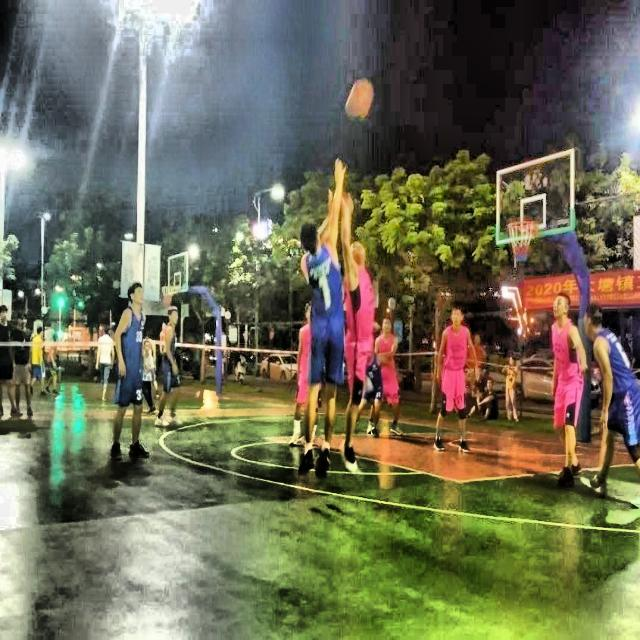board: (345, 78, 373, 120)
